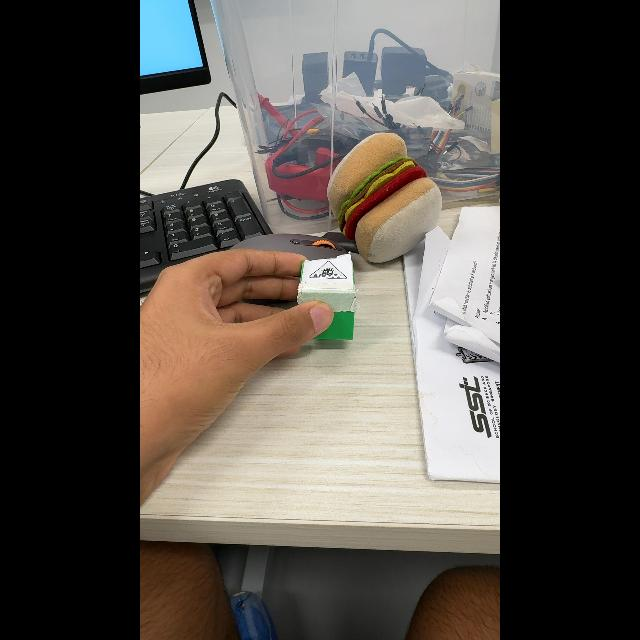Tsunami: (308, 261, 346, 279)
